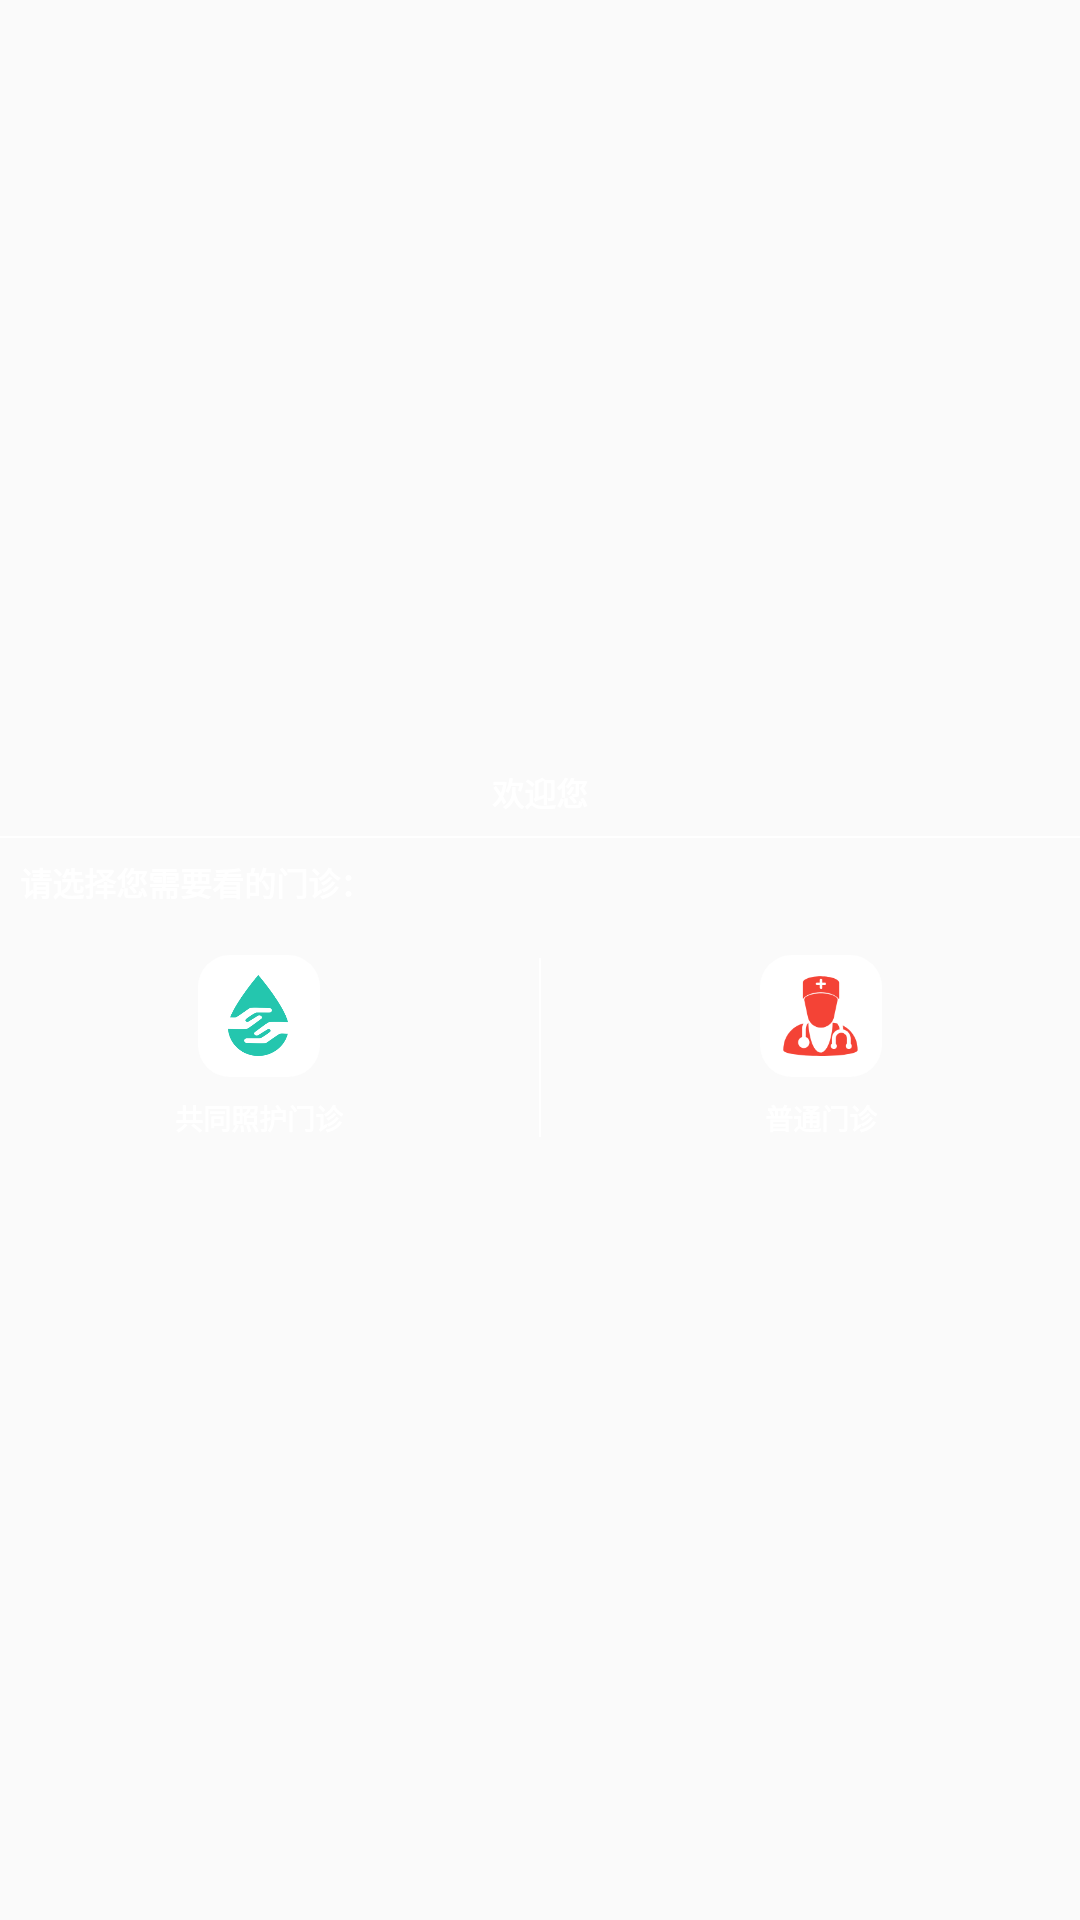

Named icons in this screenshot (1080px x 1920px) and their bounding boxes, (left=x1, top=y1, right=x2, bottom=y2):
detect gongtongzhaohu: (left=228, top=975, right=288, bottom=1056)
detect putongmenzhen: (left=783, top=976, right=858, bottom=1056)
